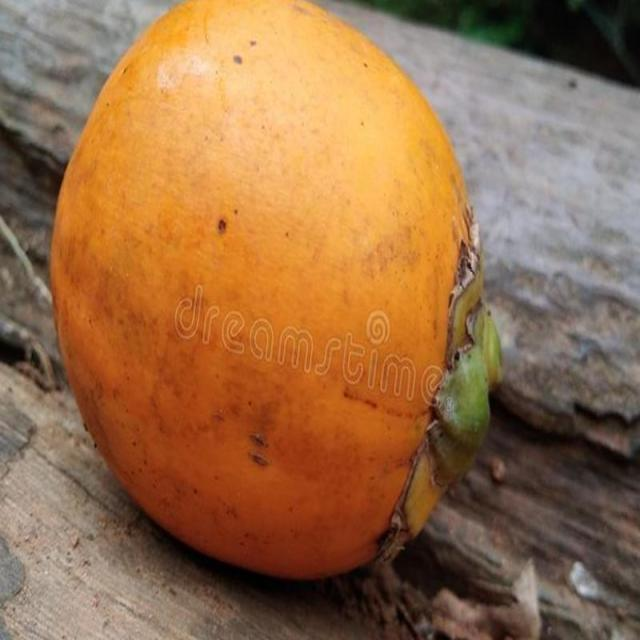good: (50, 0, 502, 585)
